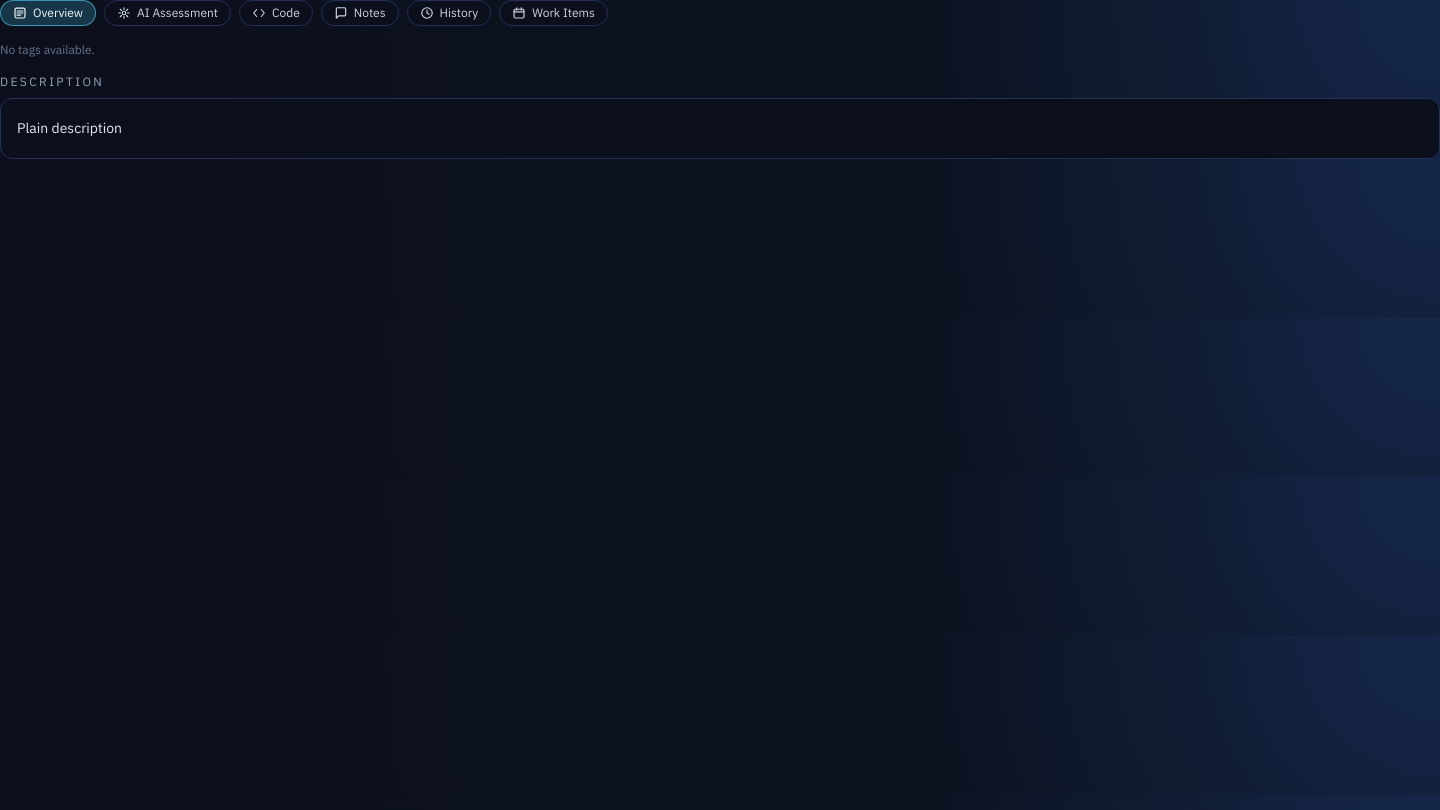
Test case: FindingDetailTabs › shows fix panel in AI Assessment tab when fix is present
Click the button "AI Assessment". click: (168, 13)
box: [104,0,231,26]
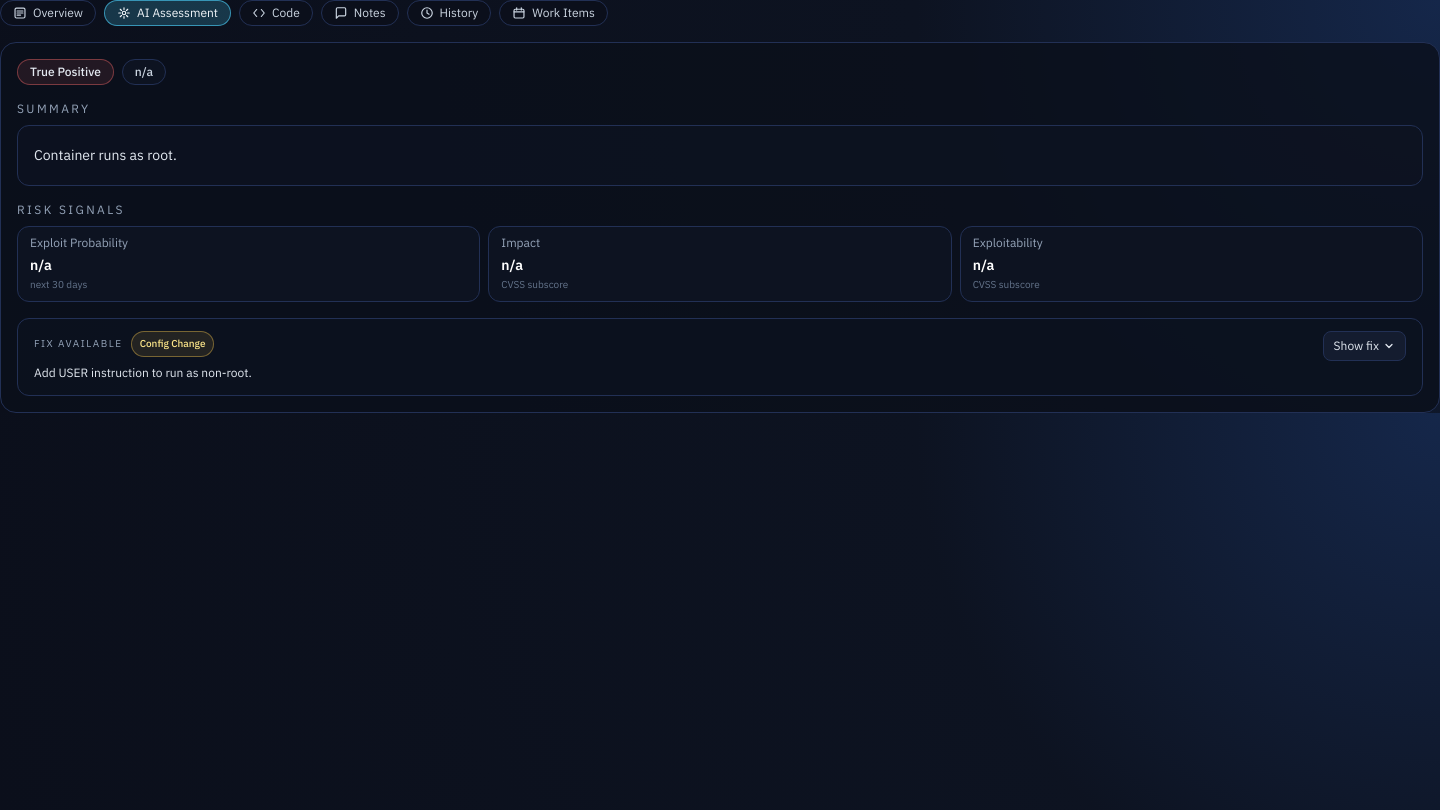
Expected: the text "Add USER instruction to run as non-root." is shown, [34,363,252,383]
Expected: the text "Config Change" is shown, [131,331,214,357]
Expected: the button "Show fix" is shown, [1323,331,1406,361]
